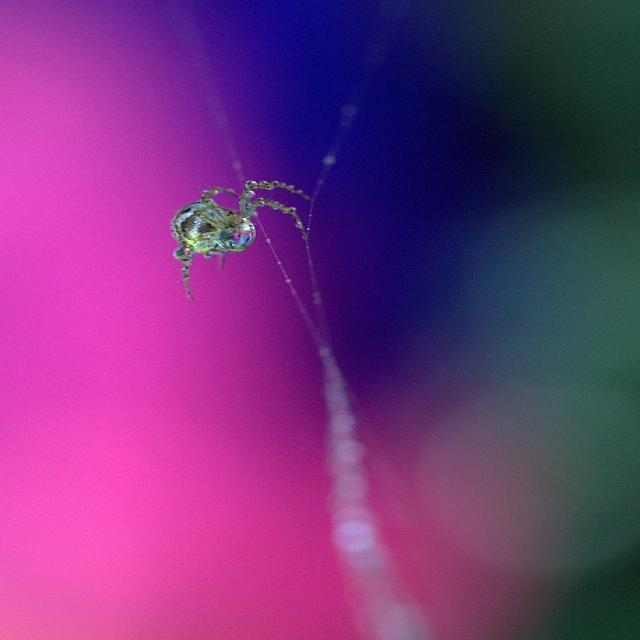spyder: (169, 183, 298, 292)
